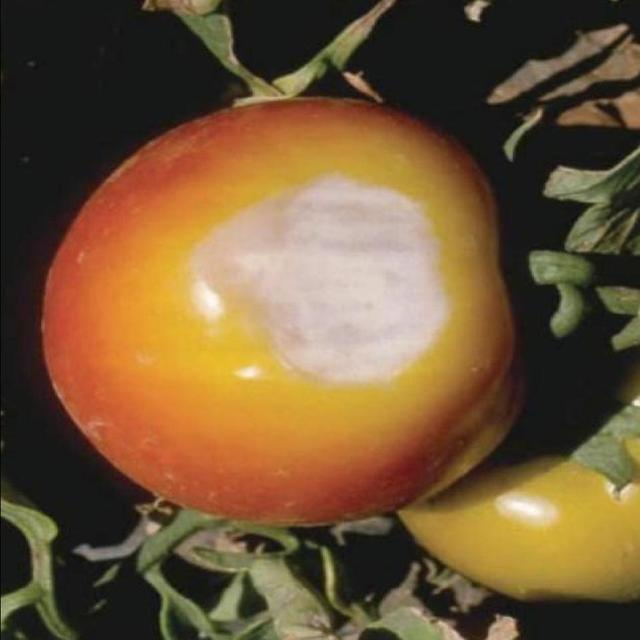Sunscald Fruit: (99, 108, 296, 266)
